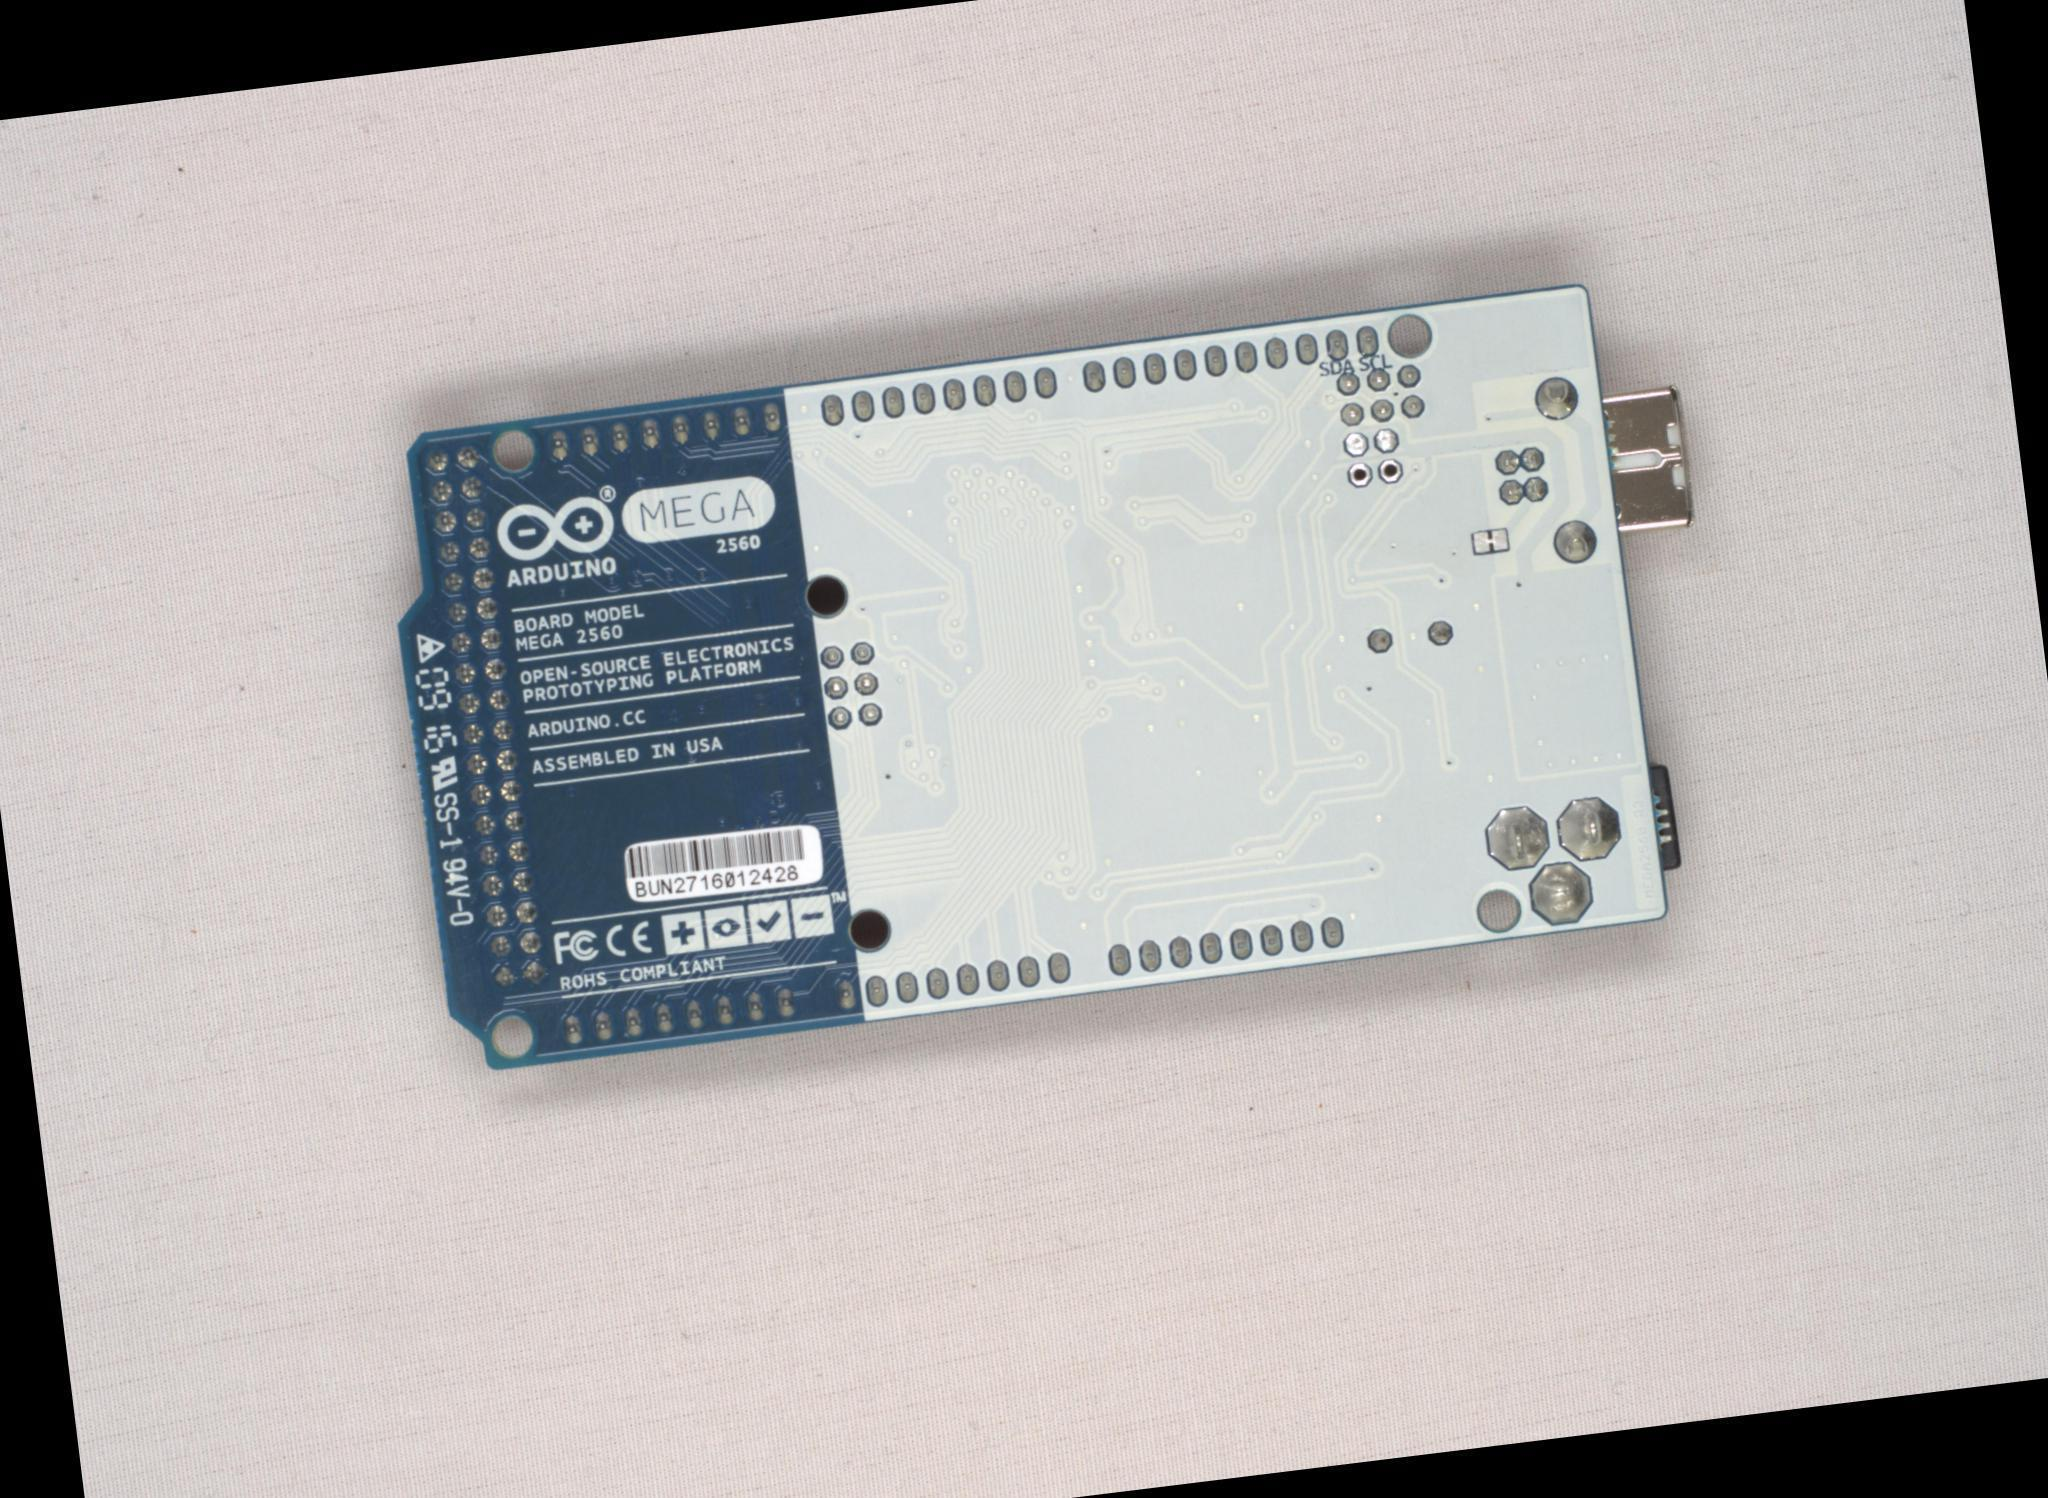Connector: (1597, 387, 1694, 534), (1334, 423, 1409, 461), (1339, 456, 1408, 493)
Pads: (1466, 525, 1510, 556)
Pins: (421, 438, 549, 993), (1478, 791, 1637, 936), (1078, 322, 1380, 391), (815, 363, 1064, 429), (1102, 913, 1349, 979), (558, 982, 798, 1050), (544, 399, 786, 463), (829, 949, 1074, 1012), (1532, 368, 1600, 566), (815, 636, 888, 733), (1334, 364, 1426, 429), (1487, 443, 1554, 515), (1359, 617, 1456, 657)
